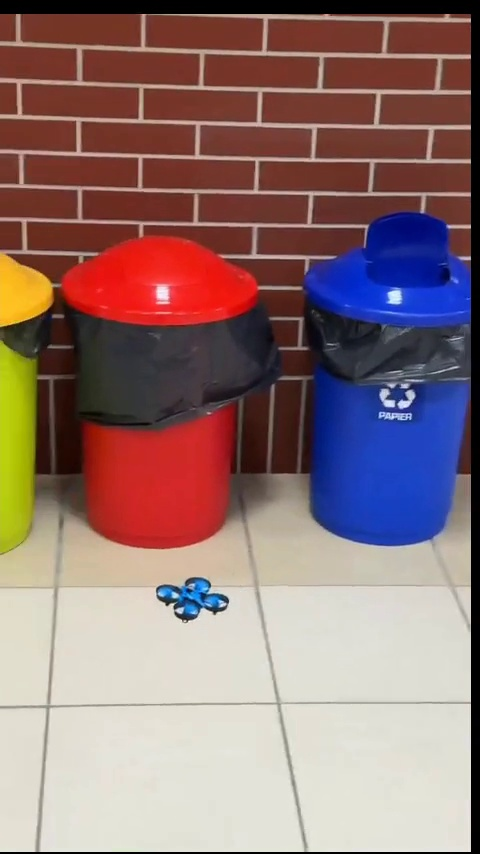drone: (153, 576, 232, 622)
